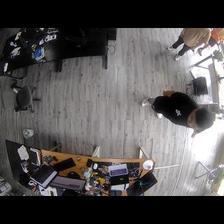normal: (141, 89, 215, 131)
